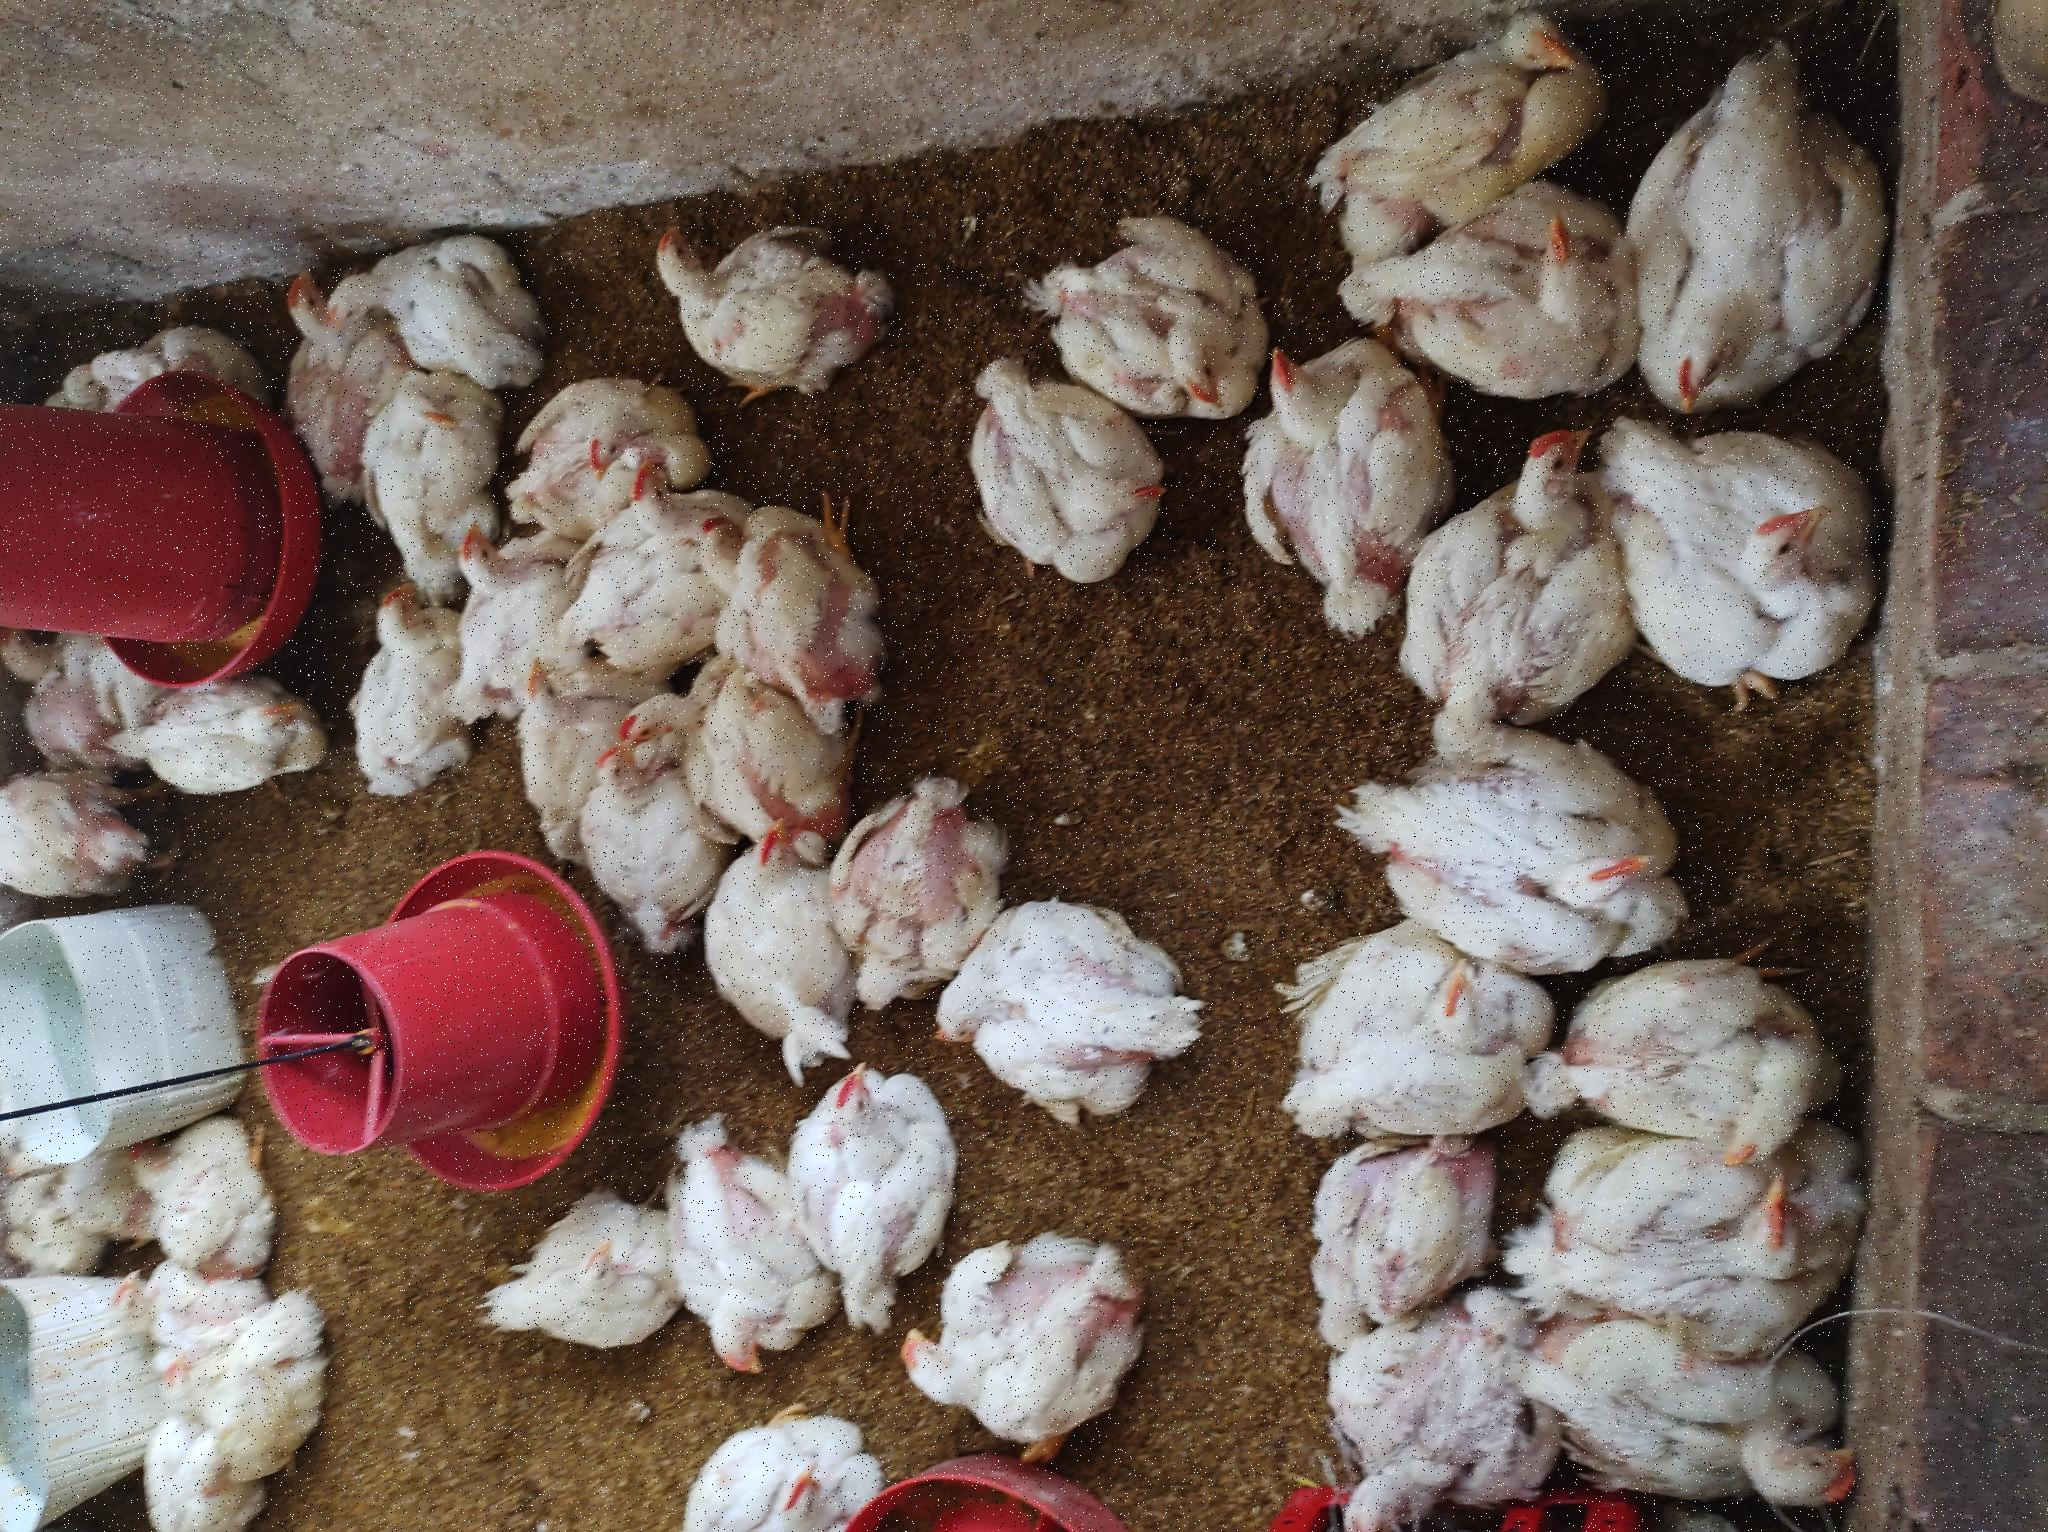Pollos: (61, 867, 317, 1163), (893, 1241, 1244, 1442), (409, 945, 645, 1231), (1091, 1040, 1351, 1271), (1134, 661, 1377, 903), (380, 1281, 610, 1532), (1305, 1299, 1532, 1532), (193, 1266, 394, 1527), (6, 1312, 236, 1532), (790, 1382, 1126, 1532), (209, 784, 467, 948), (516, 840, 763, 1007), (906, 957, 1108, 1159), (837, 710, 1046, 900), (142, 673, 438, 805), (587, 1366, 816, 1532), (1149, 330, 1306, 550), (171, 483, 344, 660), (471, 698, 709, 821), (1141, 1381, 1332, 1532), (2, 677, 122, 887), (631, 2, 766, 180), (746, 122, 857, 333), (896, 624, 1070, 740), (989, 369, 1141, 497), (999, 525, 1154, 637), (771, 349, 948, 447), (283, 127, 409, 266), (775, 6, 915, 124), (1089, 245, 1248, 348), (874, 457, 1018, 558), (1133, 89, 1226, 241), (653, 570, 796, 666), (114, 159, 204, 303), (2, 138, 105, 261), (782, 616, 866, 748), (798, 523, 869, 589), (203, 106, 267, 167), (348, 3, 393, 74), (1126, 51, 1174, 92)
